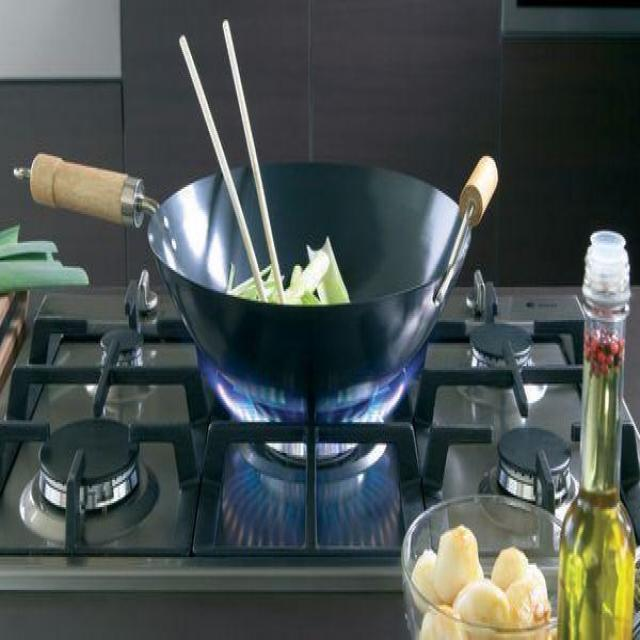Flame: (220, 373, 438, 441)
Pan: (25, 130, 472, 408)
